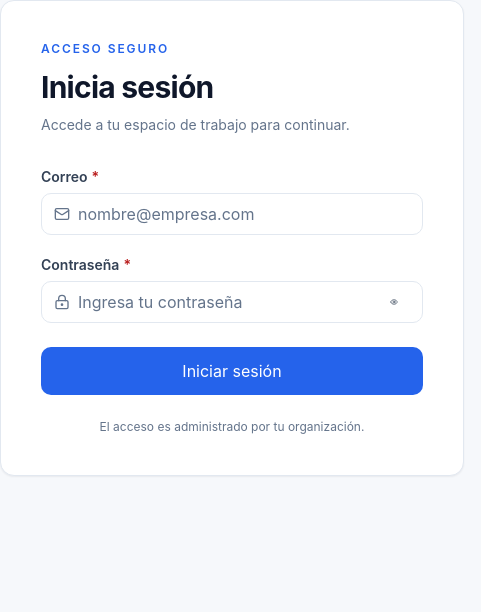
Test case: LoginForm › shows a safe credentials error without exposing backend details
Type "user@example.com" into the field labelled "Correo*" at (244, 214), box [78,194,410,234]
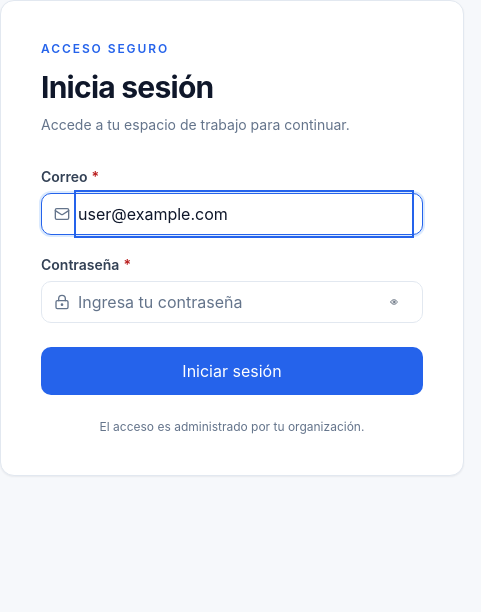
Type "invalid-password" into the password field labelled "Contraseña*" at (224, 302), box [78,282,370,322]
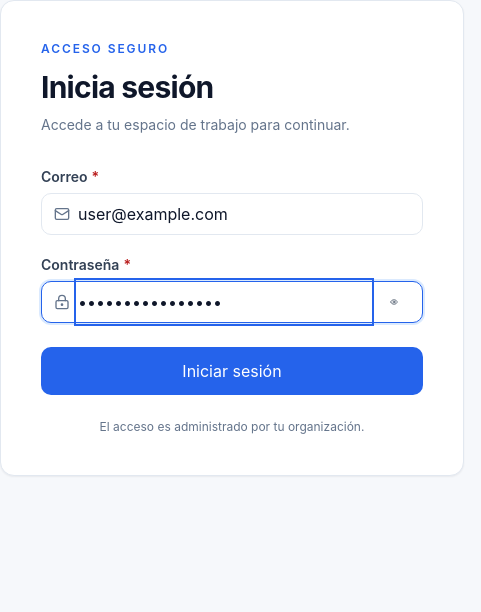
Click the button "Iniciar sesión" at (232, 370), box [41,346,423,394]
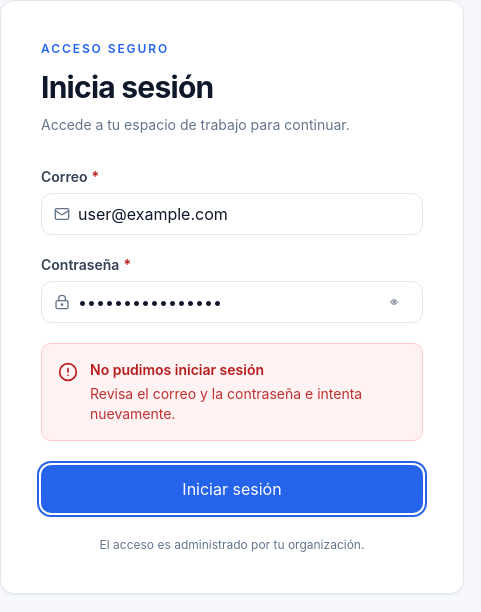
Now the message shows "No pudimos iniciar sesión", box [90,360,264,378]
